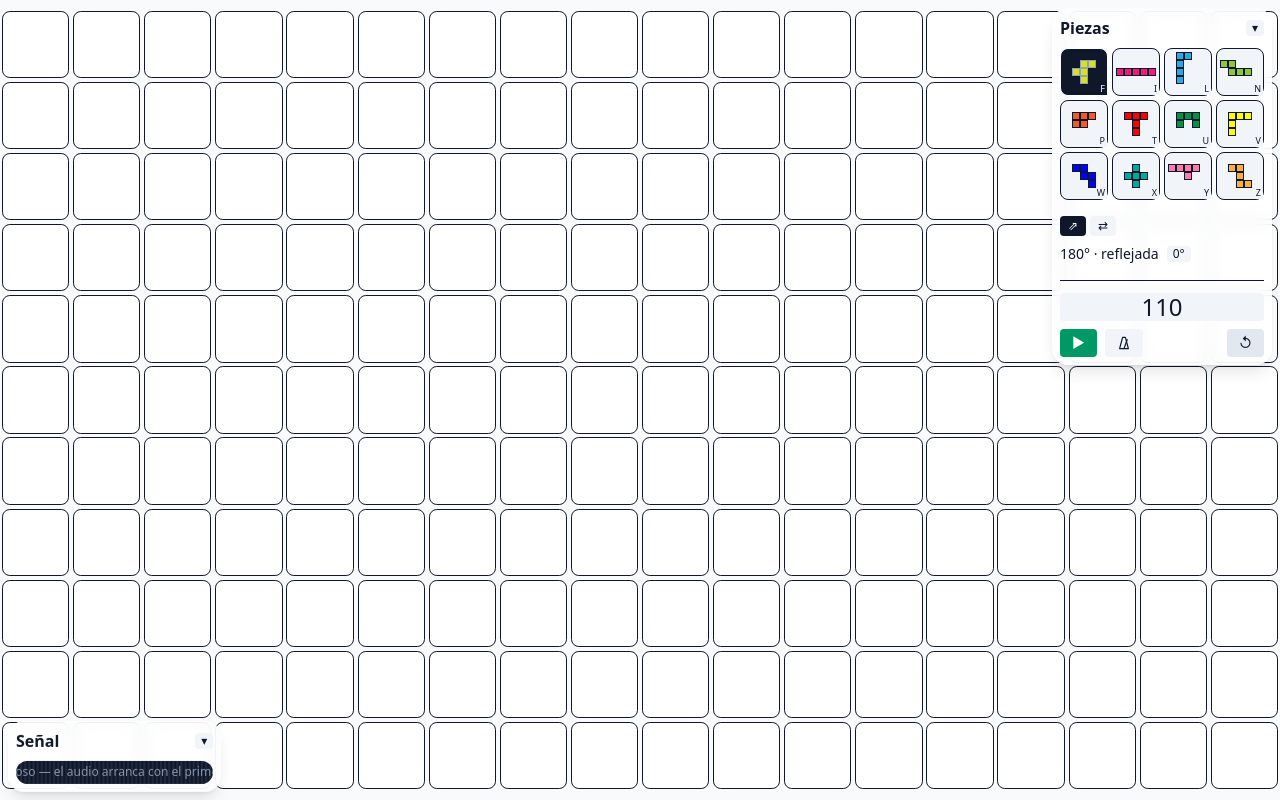
Test: App: the orientation, by panel and by gesture › AC-PCS-019 AC-PCS-020 AC-PCS-021 — the orientation belongs to the PIECE: it is remembered, and the `0°` resets one piece
Check: the text "180° · reflejada" is shown, box left=1060, top=244, right=1159, bottom=264
Click the button named "T, rotación 0°": (1136, 124) left=1112, top=100, right=1160, bottom=148
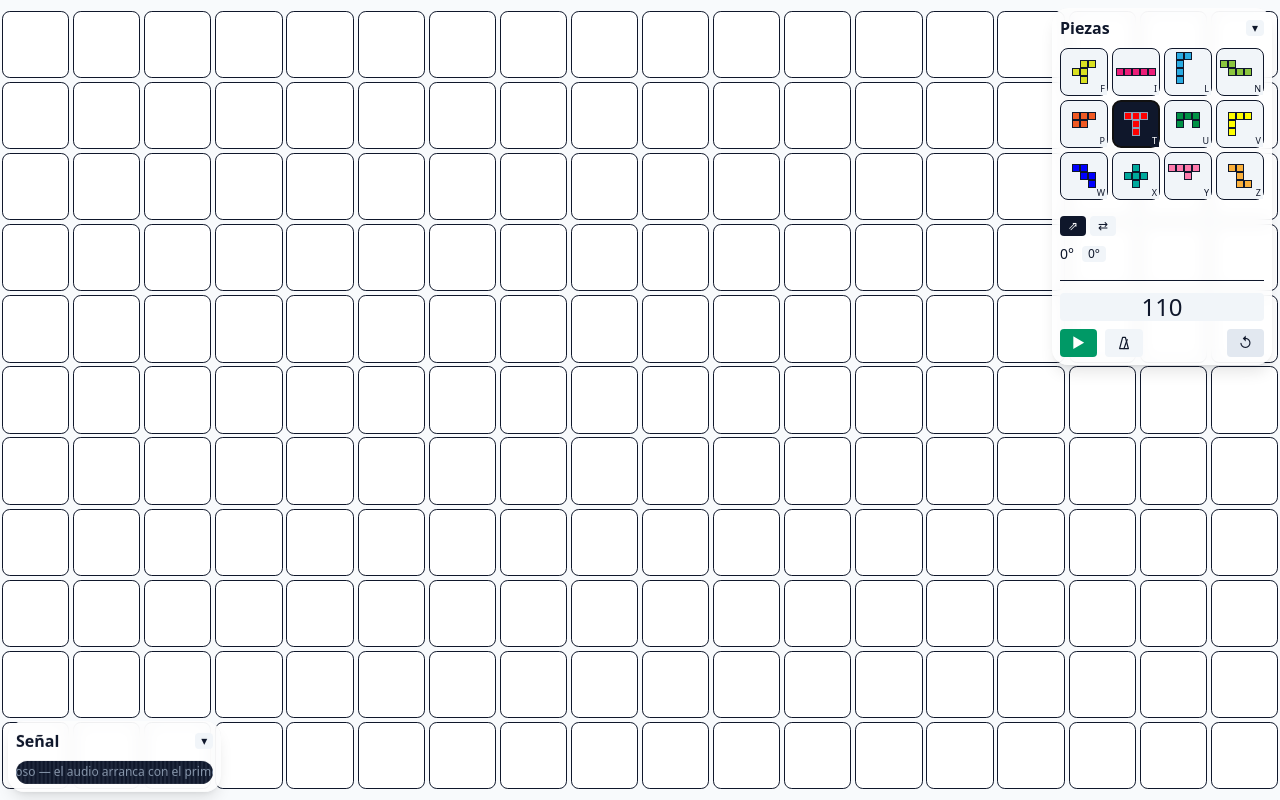
Check: the text "0°" is shown, box left=1060, top=244, right=1074, bottom=264
Click the button named "F, rotación 180°, reflejada": (1084, 72) left=1060, top=48, right=1108, bottom=96
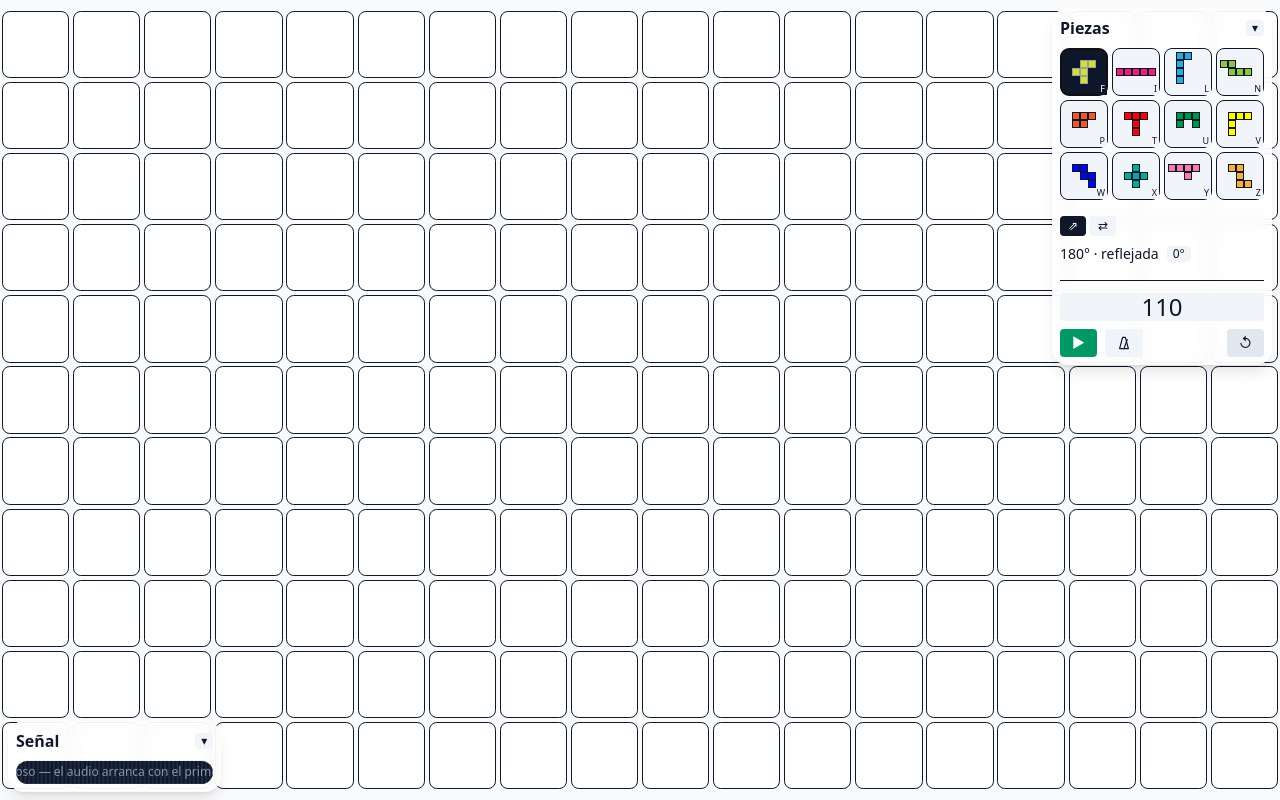
Check: the text "180° · reflejada" is shown, box left=1060, top=244, right=1159, bottom=264
Click the button named "Volver esta pieza a 0° sin reflejar": (1179, 254) left=1167, top=246, right=1191, bottom=262
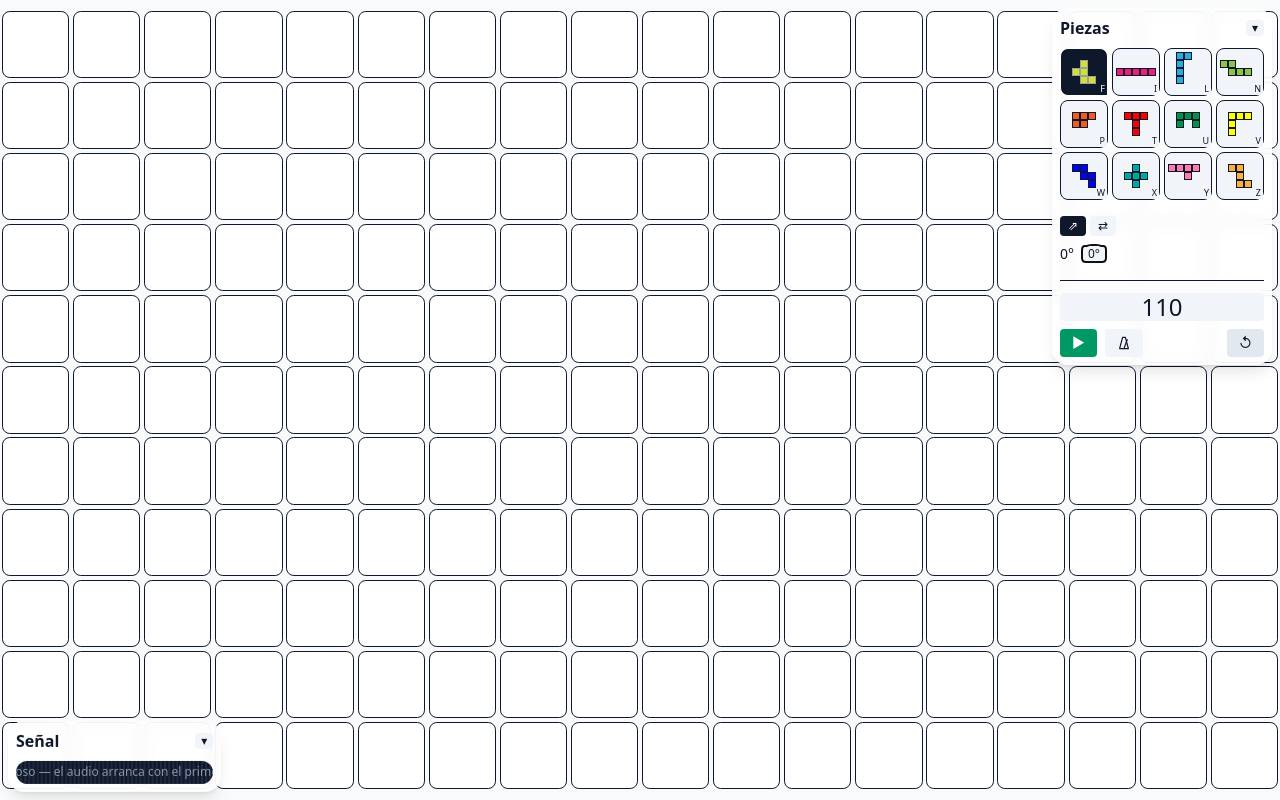
Check: the text "0°" is shown, box left=1060, top=244, right=1074, bottom=264
